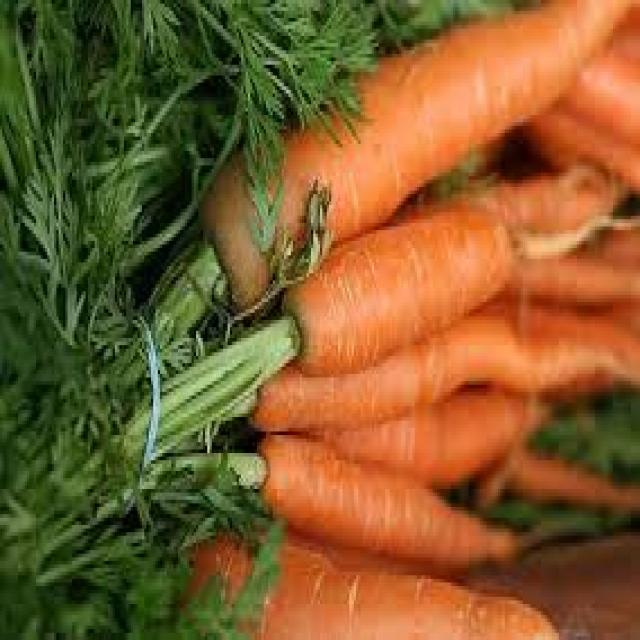organic waste: (198, 0, 638, 306), (0, 309, 297, 636), (0, 233, 225, 582), (0, 8, 237, 316), (277, 162, 622, 363), (243, 306, 638, 428), (173, 525, 559, 636), (252, 435, 532, 568), (221, 7, 367, 241), (2, 532, 282, 637), (293, 381, 552, 482), (0, 435, 264, 521), (77, 0, 509, 47), (466, 449, 638, 522), (512, 97, 638, 187), (538, 392, 638, 482), (498, 244, 638, 306), (568, 43, 638, 137), (482, 496, 636, 536), (572, 223, 638, 266), (613, 22, 638, 54)
